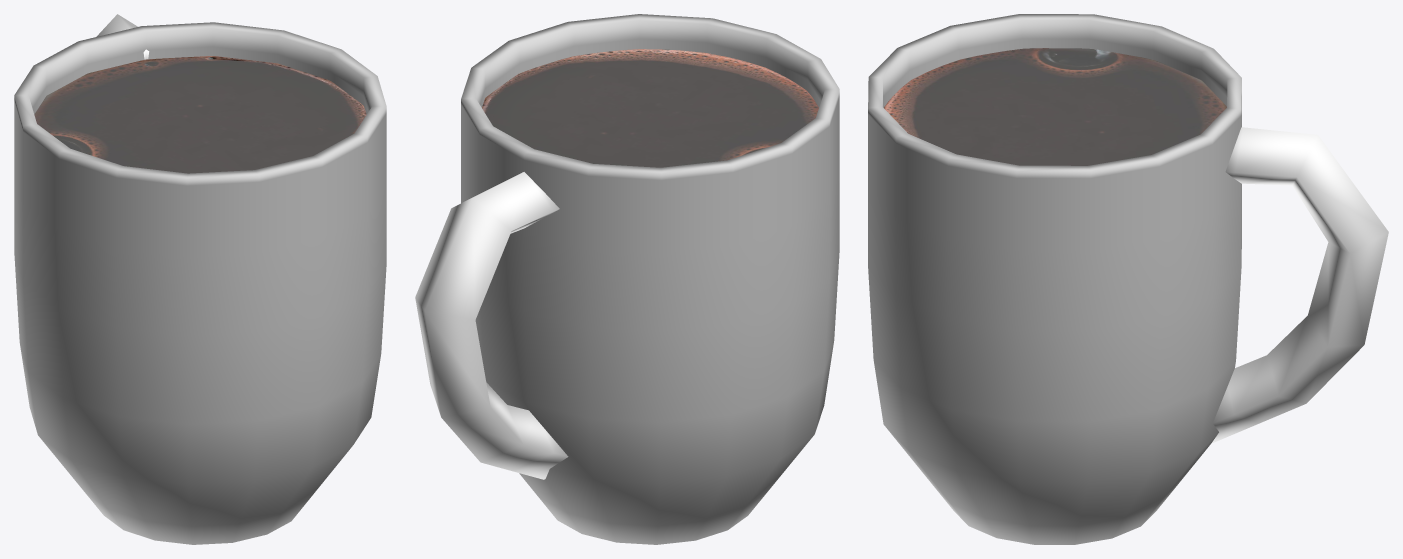
Rendered from coffee.glb.
3 renders of one model, left to right at view 1: azimuth 30°, elevation 25°; view 2: azimuth 150°, elevation 25°; view 3: azimuth 270°, elevation 25°, orthographic.
Parts seen in each view (by area): view 1: coffee; view 2: coffee; view 3: coffee.
Boxes of the visible parts, left/top/right/bottom form: coffee: left=14, top=14, right=386, bottom=544; coffee: left=415, top=14, right=839, bottom=544; coffee: left=868, top=14, right=1388, bottom=544.
Size of the model in its own units: 2 by 2.41 by 2.78.
Materials: 4 (1 with a texture image).
